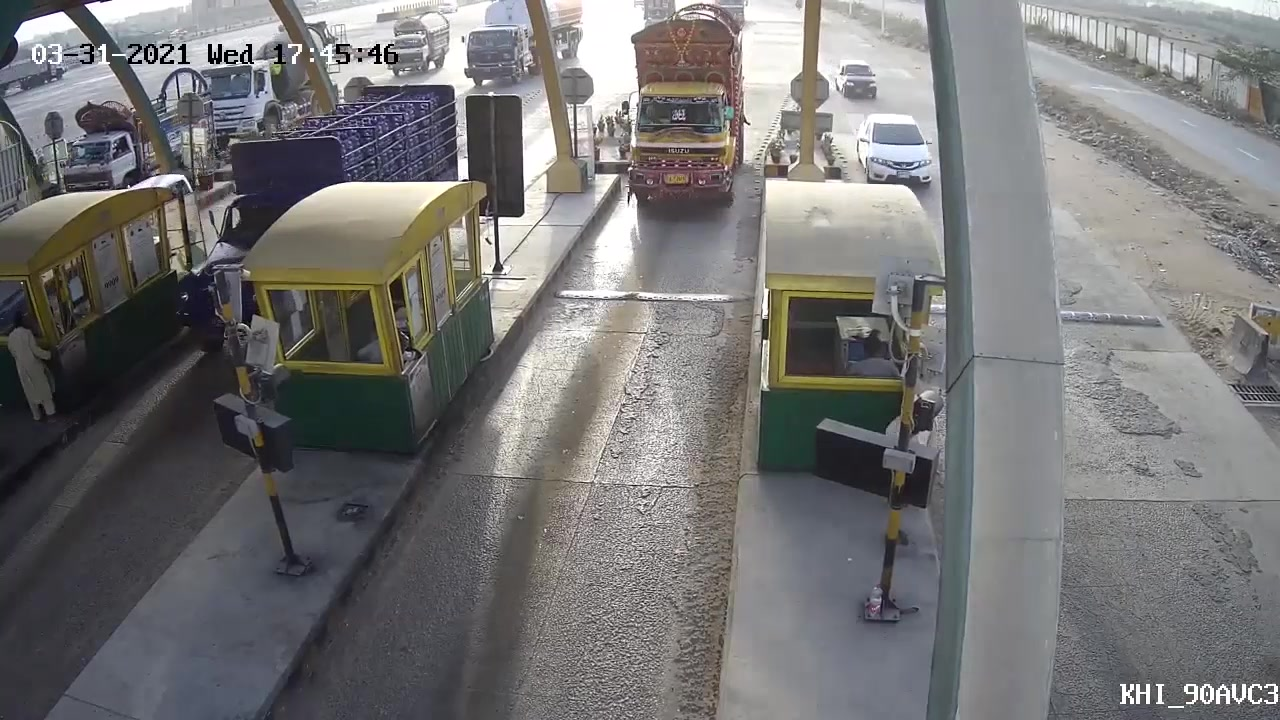F5: (608, 1, 758, 221)
